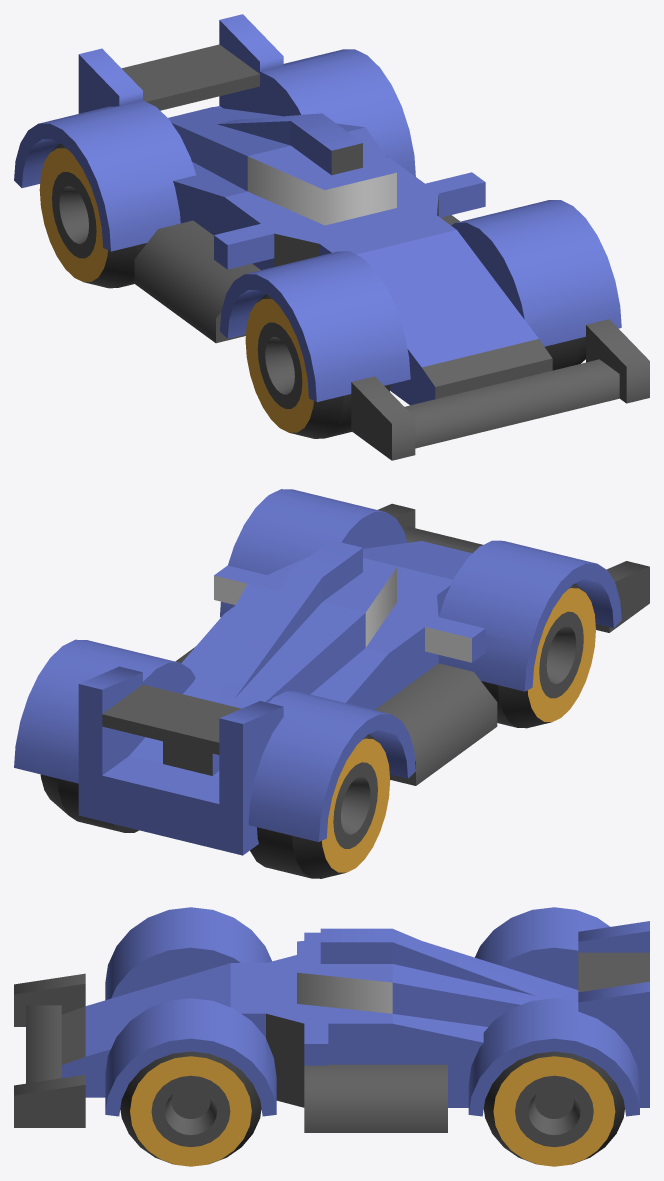
The model's file is raceFuture.obj.
3 views of the same model, one above another, from view 1: azimuth 30°, elevation 25°; view 2: azimuth 150°, elevation 25°; view 3: azimuth 270°, elevation 25° (orthographic). The views are drawn at different scales.
Visible parts, largest first — view 1: body, wheel_frontRight, wheel_backRight, wheel_frontLeft; view 2: body, wheel_backRight, wheel_frontRight, wheel_backLeft; view 3: body, wheel_frontLeft, wheel_backLeft.
Part boxes in pixels (x1=…): body: x1=14, y1=14, x2=649, y2=460; wheel_frontRight: x1=245, y1=294, x2=390, y2=438; wheel_backRight: x1=39, y1=143, x2=146, y2=288; wheel_frontLeft: x1=545, y1=336, x2=585, y2=370; body: x1=14, y1=489, x2=649, y2=855; wheel_backRight: x1=250, y1=734, x2=390, y2=878; wheel_frontRight: x1=481, y1=583, x2=595, y2=728; wheel_backLeft: x1=40, y1=774, x2=138, y2=832; body: x1=14, y1=907, x2=649, y2=1132; wheel_frontLeft: x1=120, y1=1051, x2=261, y2=1166; wheel_backLeft: x1=484, y1=1051, x2=624, y2=1166.
Bounding box in the file's own units: 1.3 × 0.8325 × 2.66.
